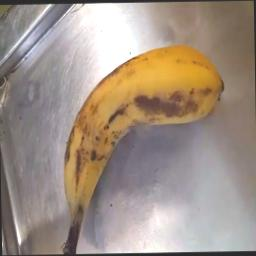Banana Overripe: (43, 43, 221, 232)
